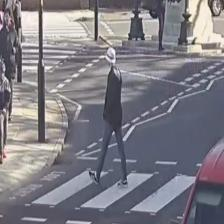person: (88, 47, 127, 187), (0, 7, 19, 121), (0, 57, 11, 162)
